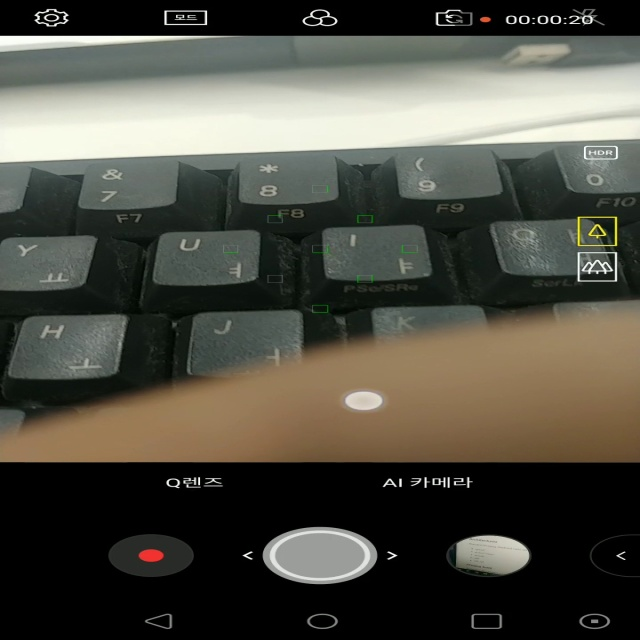Cursor: (342, 391, 386, 413)
